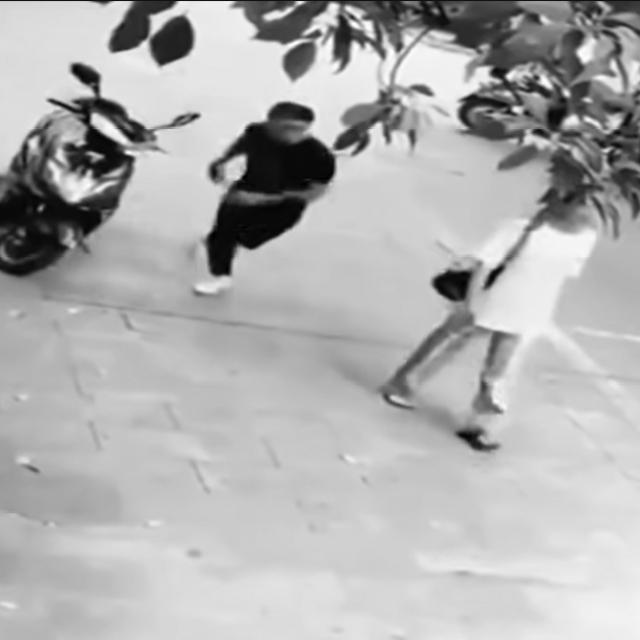Invader: (374, 156, 608, 460), (190, 99, 336, 296)
